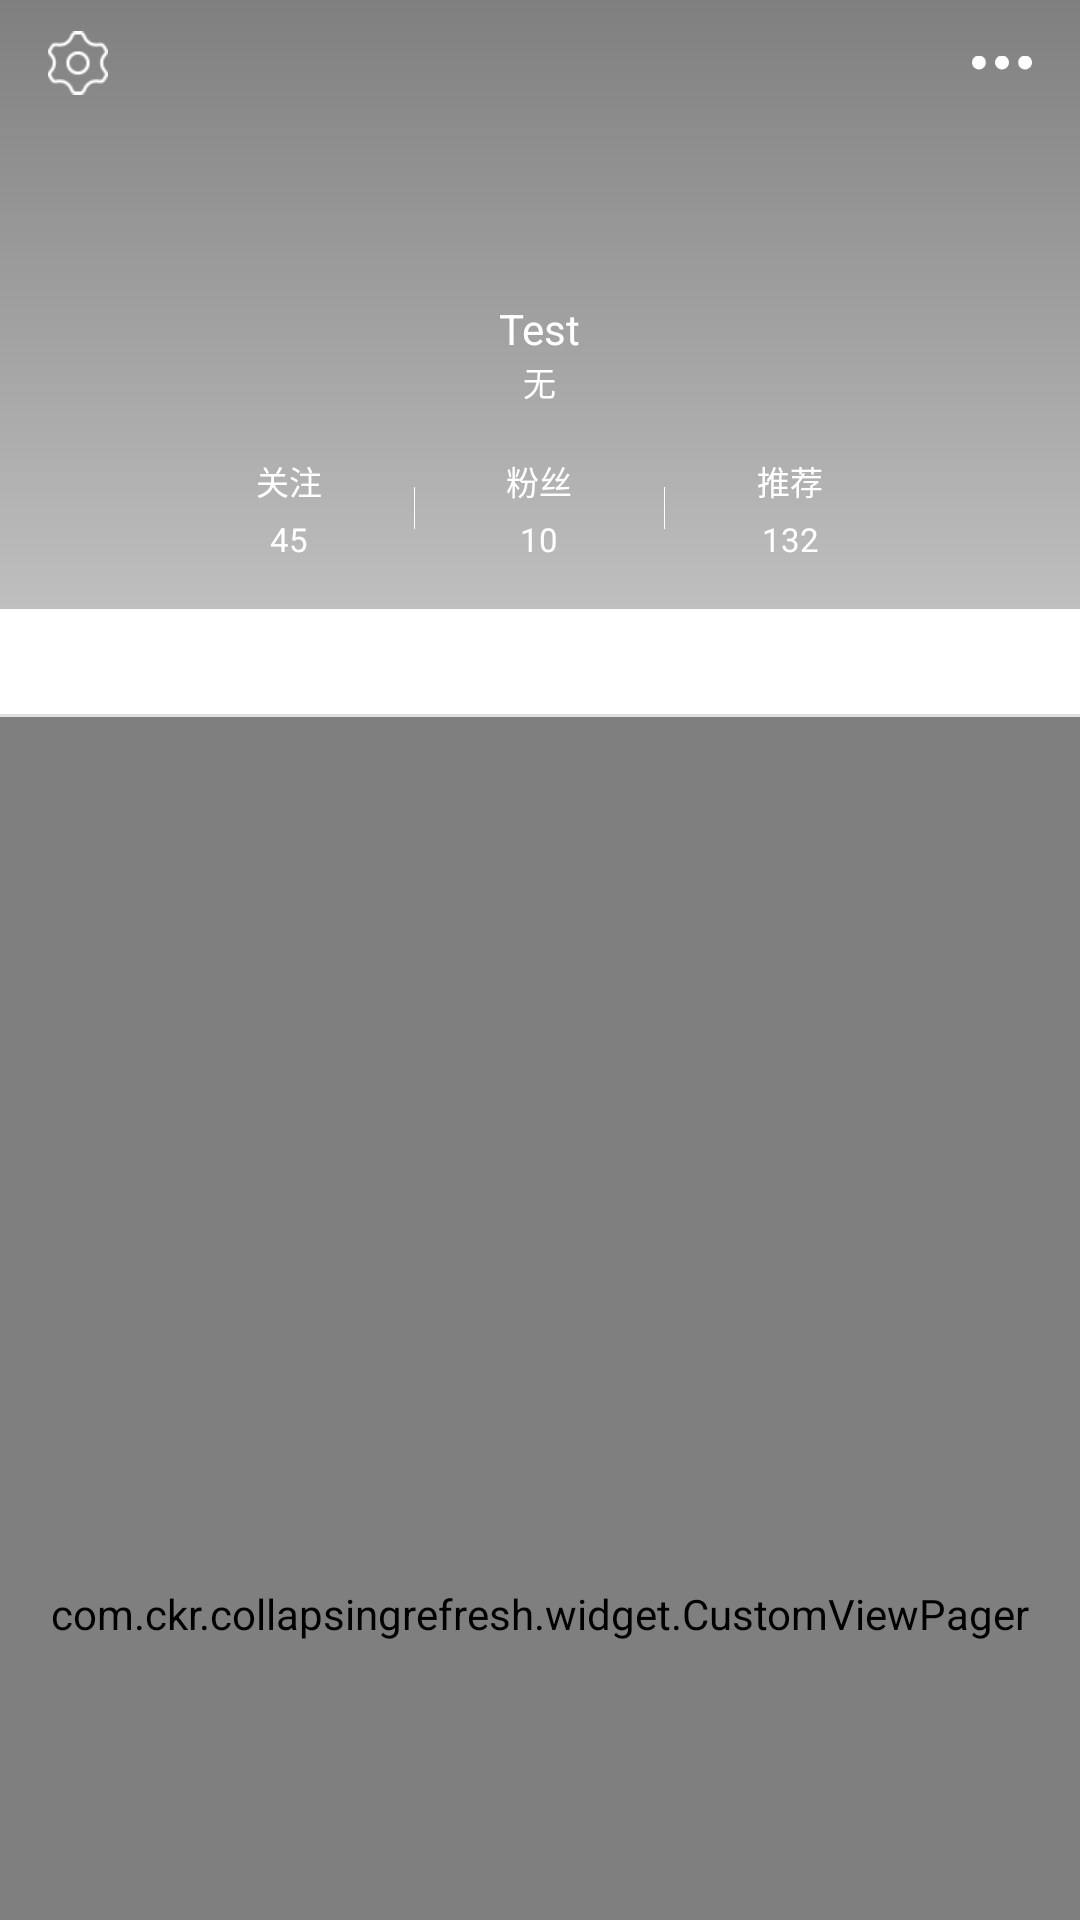

Screen size 1080px×1920px. Icon name, then its box in pixels as (x1, y1, x2, y2):
more: (972, 56, 1032, 70)
set: (48, 31, 108, 95)
